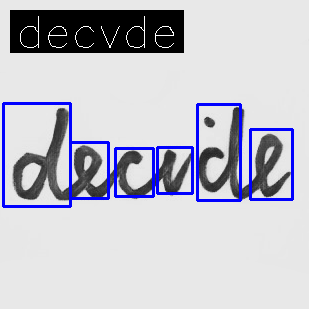c: (112, 147, 148, 201)
d: (10, 106, 70, 203), (195, 105, 248, 199)
e: (252, 132, 292, 199), (72, 144, 108, 200)
i: (155, 142, 182, 198)
